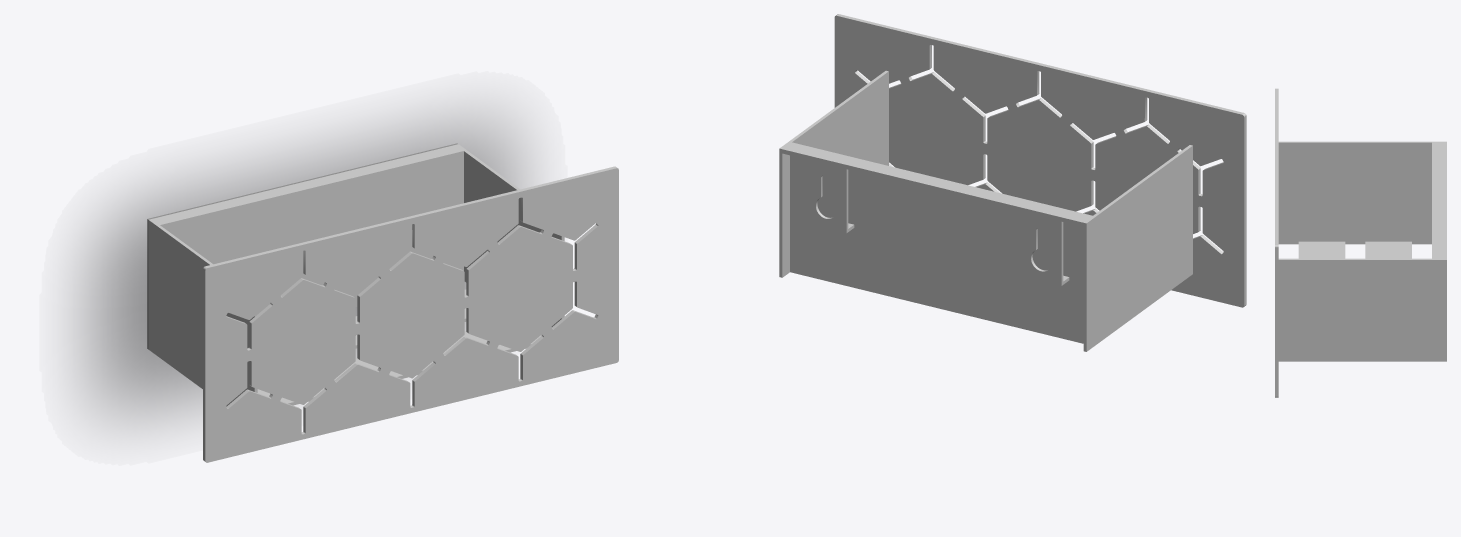
File: bee-mono.10fb37e459.ar.glb
3 views of the same model, side by side, from view 1: azimuth 30°, elevation 25°; view 2: azimuth 150°, elevation 25°; view 3: azimuth 270°, elevation 25° (orthographic). The views are drawn at different scales.
Visible parts, largest first — view 1: NAUO1, object 2; view 2: NAUO1; view 3: NAUO1.
Boxes of the visible parts, x1,y1,x2,y2 form: NAUO1: (147, 143, 618, 462); object 2: (79, 117, 527, 419); NAUO1: (779, 14, 1246, 351); NAUO1: (1275, 88, 1446, 397).
Bounding box in the file's own units: 0.28 × 0.17 × 0.092.
Materials: 2 (1 with a texture image).
